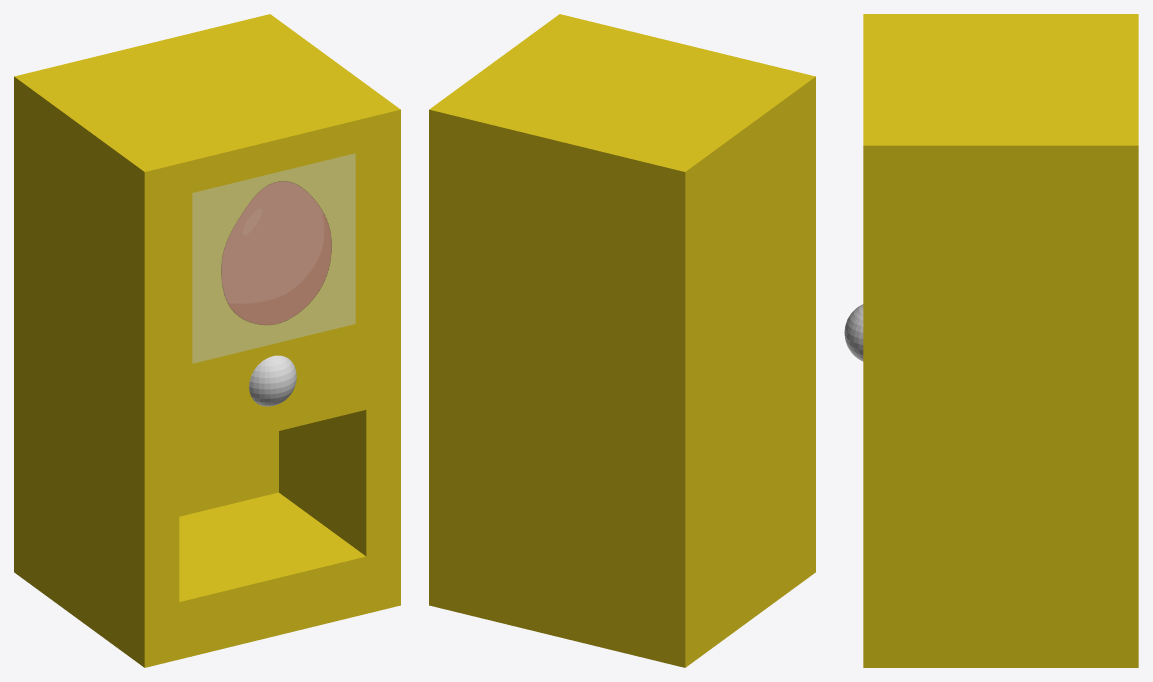
The model's file is egg_zihanki 1.fbx.
3 views of the same model, side by side, from view 1: azimuth 30°, elevation 25°; view 2: azimuth 150°, elevation 25°; view 3: azimuth 270°, elevation 25° (orthographic). The views are drawn at different scales.
Visible parts, largest first — view 1: 立方体, 平面, 球; view 2: 立方体; view 3: 立方体, 球.
Part boxes in pixels (<box>): 立方体: <box>14,14,400,667</box>; 平面: <box>192,153,355,363</box>; 球: <box>249,355,296,406</box>; 立方体: <box>429,14,815,667</box>; 立方体: <box>863,14,1138,667</box>; 球: <box>844,304,863,361</box>.
Bounding box in the file's own units: 226 × 419 × 214.
